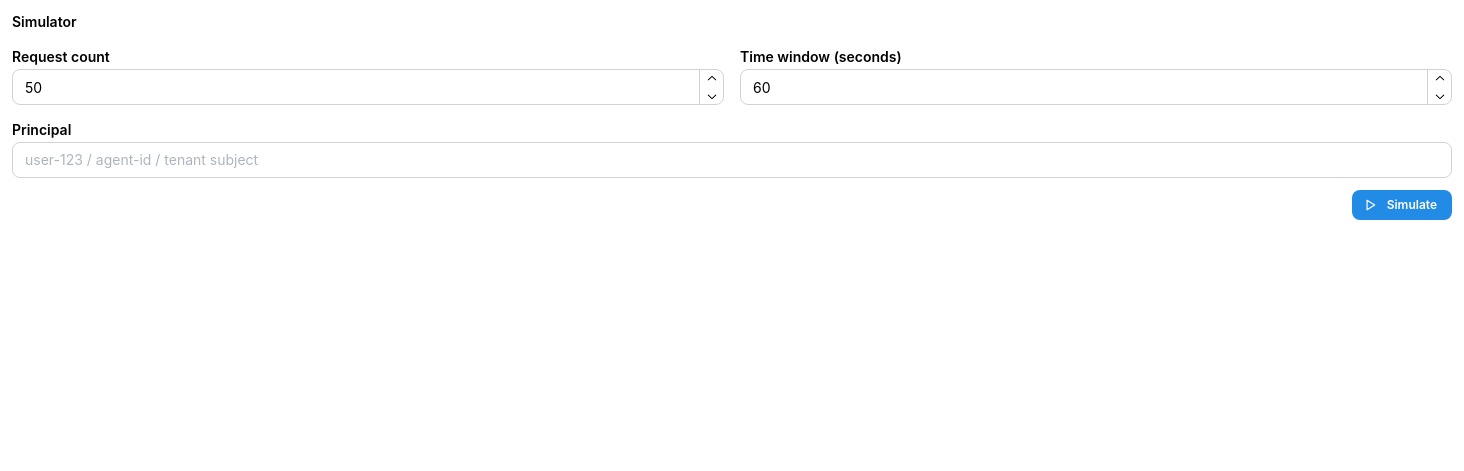
Scenario: <Simulator> › renders would_throttle=true and the retry hint when the probe exceeds the limit
Type "user-2" into the field labelled "Principal" at coordinates (732, 160), box [12,142,1452,178]
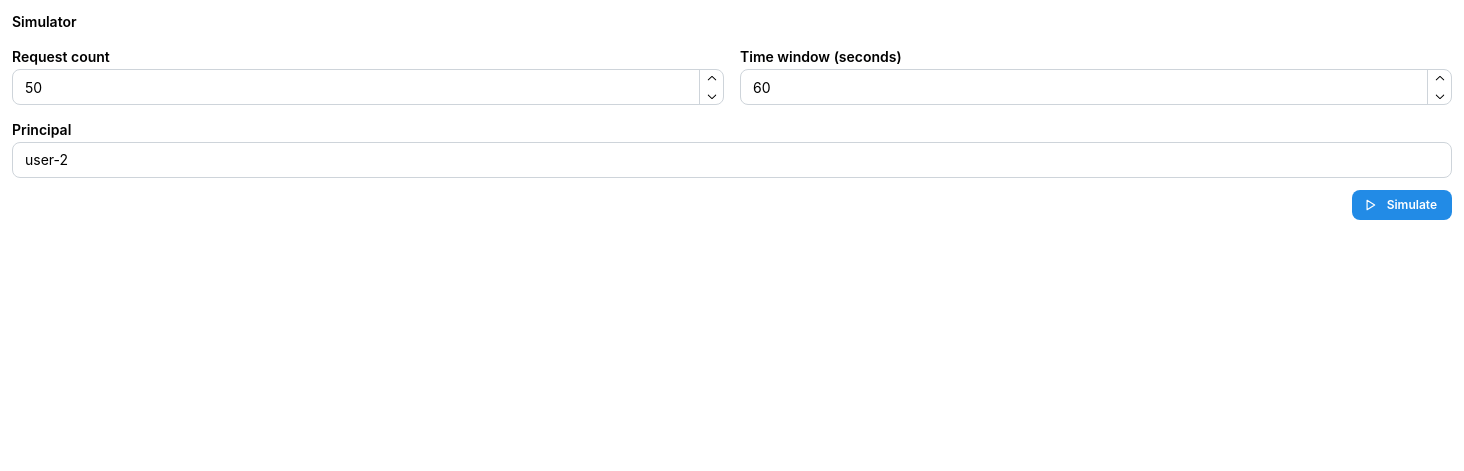
Click the button with test id "simulator-run" at coordinates (1402, 205), box [1352,190,1452,220]
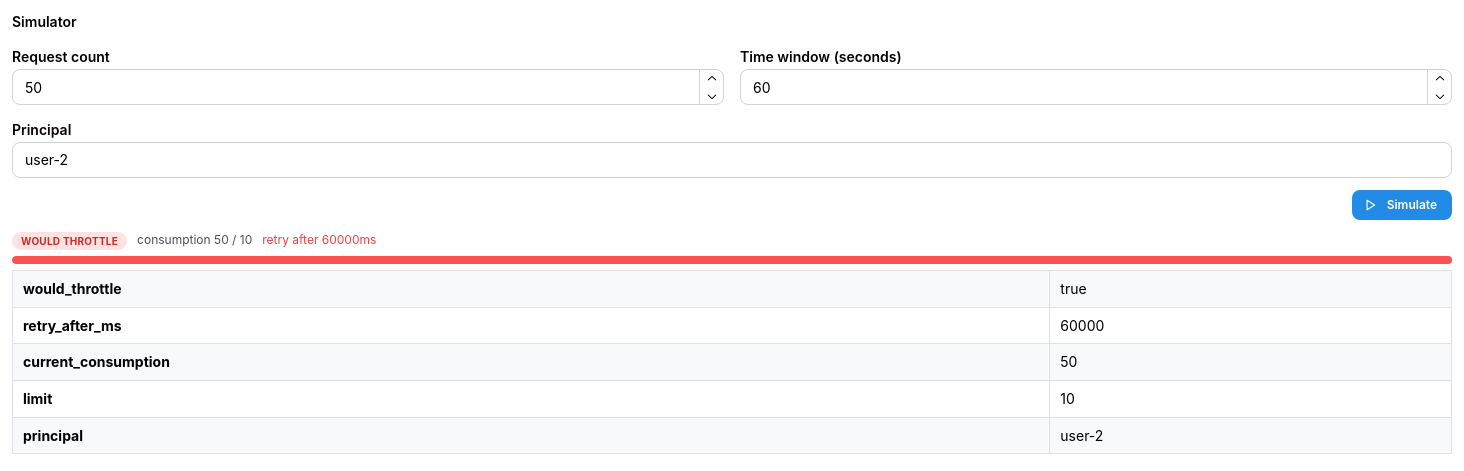
expect the element with test id "simulator-result" is shown: met, box [12,232,1452,454]
expect the element with test id "simulator-would-throttle" reads "Would throttle": met, box [21,235,118,247]
expect the cell with test id "simulator-result-throttle" reads "true": met, box [1060,280,1087,297]
